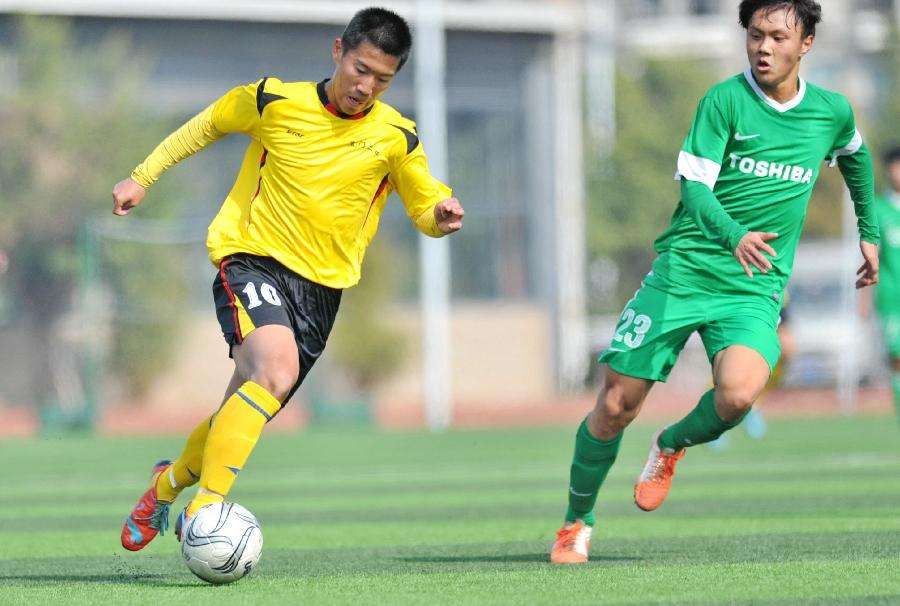football: (181, 502, 265, 583)
